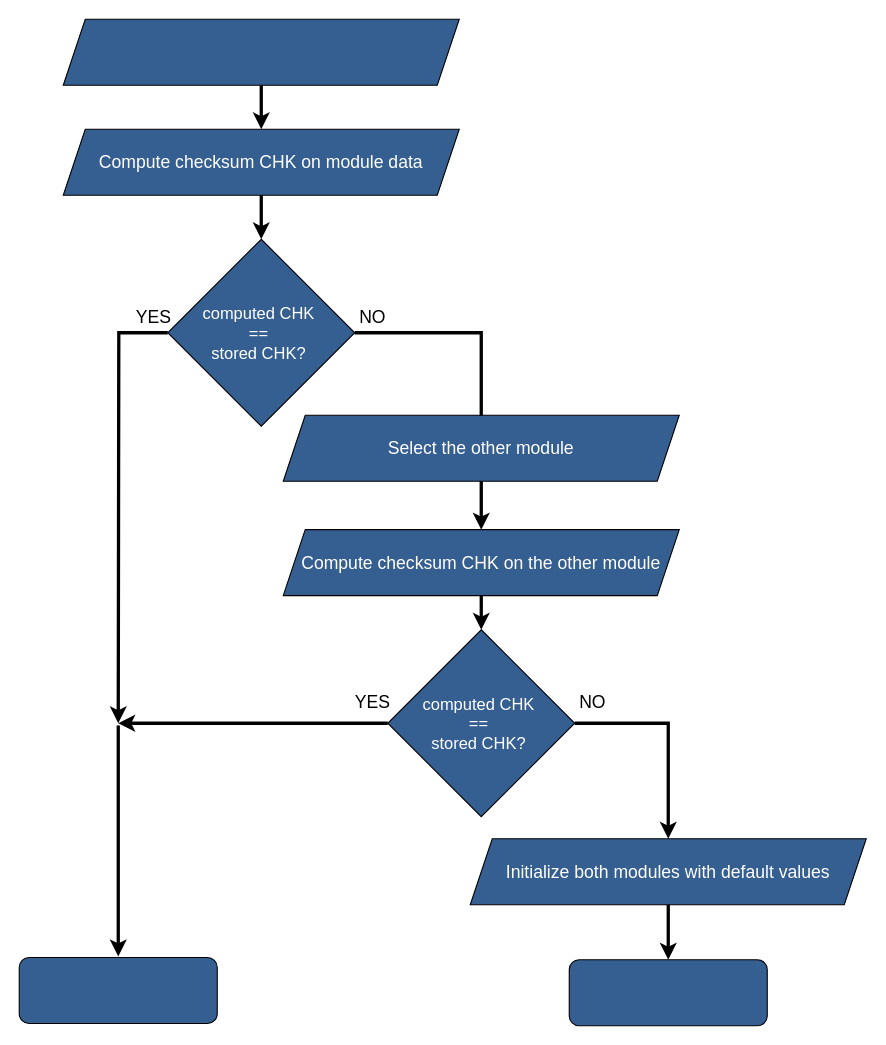
The diagram is 886 pixels wide and 1045 high, and some of its shapes have lost their labels. The centre of each missing label's shape, as x and y in pixels:
"Find last written module via # times rewritten" belongs at (260,51).
"Pick first module" belongs at (667,992).
"Pick selected module" belongs at (117,990).
